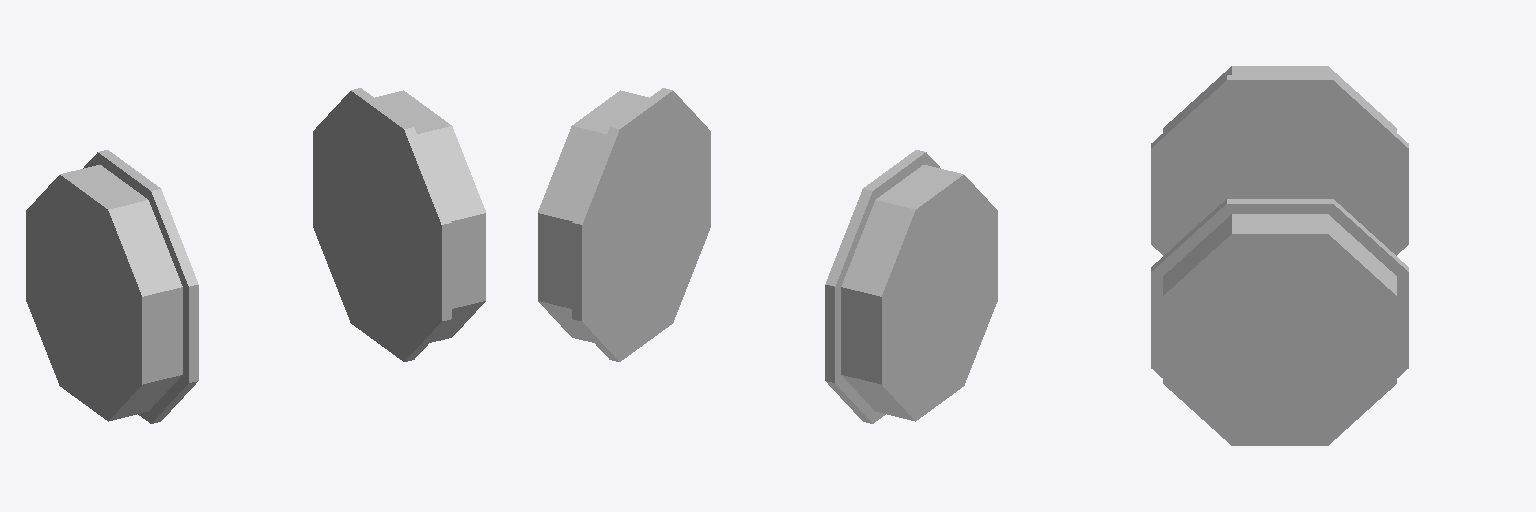
The model's file is smaller_wheels.obj.
3 renders of one model, left to right at view 1: azimuth 30°, elevation 25°; view 2: azimuth 150°, elevation 25°; view 3: azimuth 270°, elevation 25°, orthographic.
Visible parts, largest first — view 1: Cube.001_110; view 2: Cube.001_110; view 3: Cube.001_110.
Part boxes in pixels (x1,y1,x2,y2): Cube.001_110: (26, 88, 485, 423); Cube.001_110: (538, 88, 997, 423); Cube.001_110: (1151, 66, 1408, 445).
Bounding box in the file's own units: 2.12 × 1.38 × 1.38.